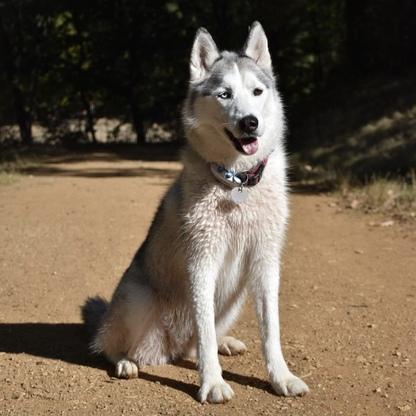husky: (75, 15, 321, 405)
